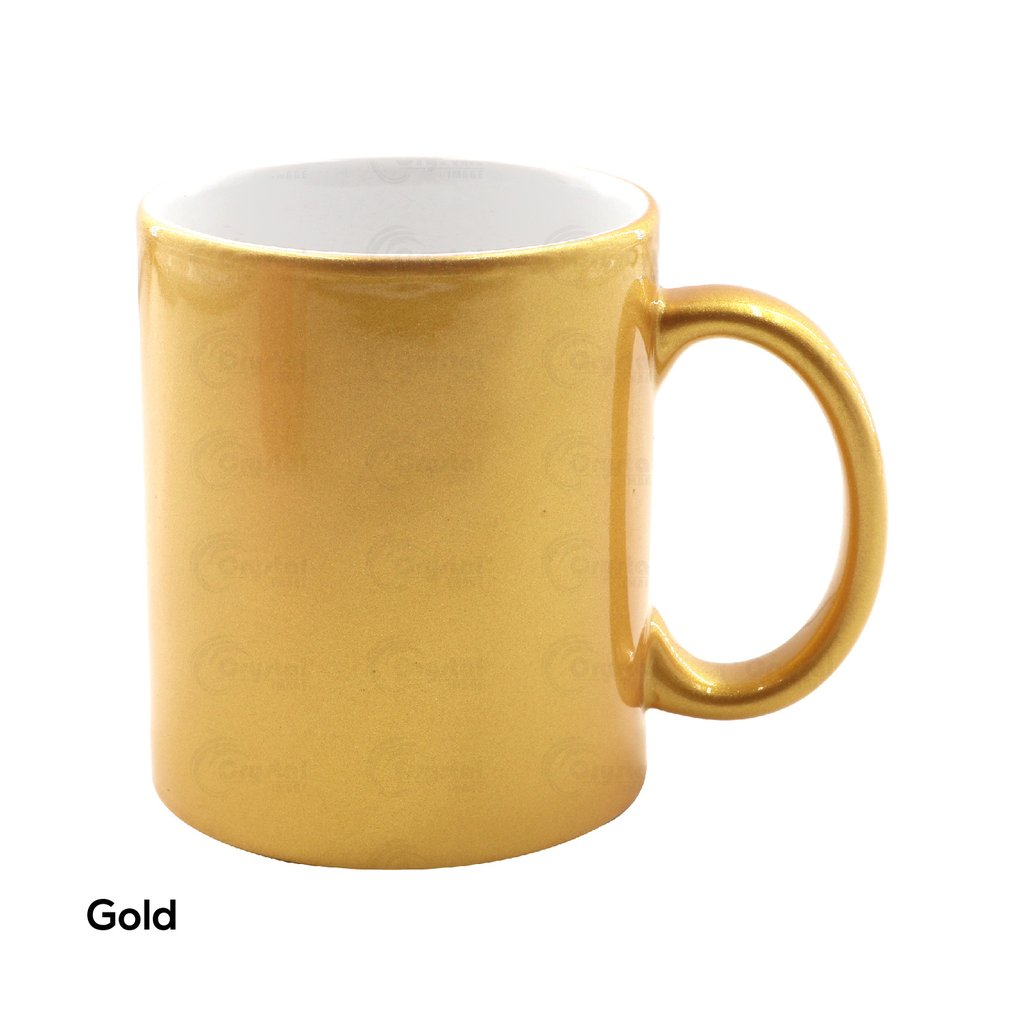gelas: (137, 152, 889, 870)
